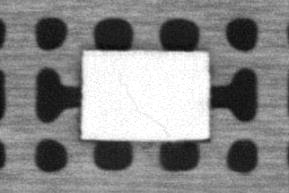DIE_CRACK: (120, 80, 169, 136)
